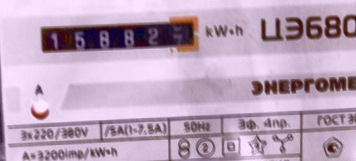1: (48, 30, 60, 49)
2: (147, 26, 159, 45)
5: (73, 29, 85, 50)
7: (172, 32, 183, 47)
8: (123, 27, 135, 49), (98, 28, 110, 49)
screen: (33, 11, 209, 60)
